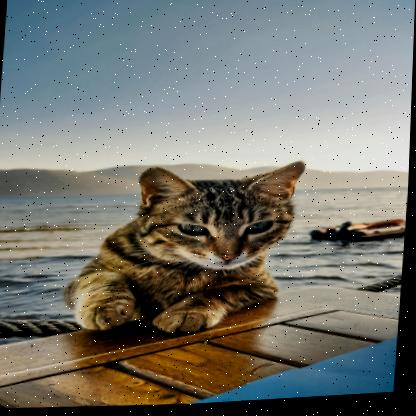cat: (57, 149, 311, 345)
